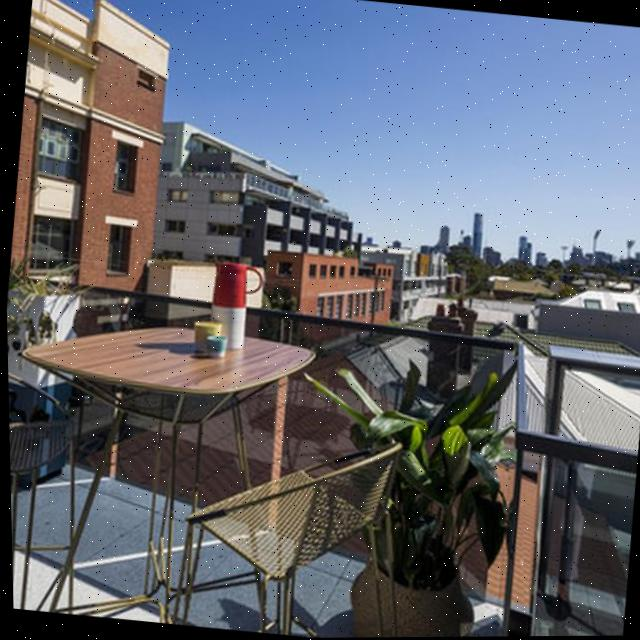building: (142, 104, 410, 340), (1, 0, 176, 307), (358, 229, 459, 322), (468, 210, 489, 270), (435, 224, 451, 256)
